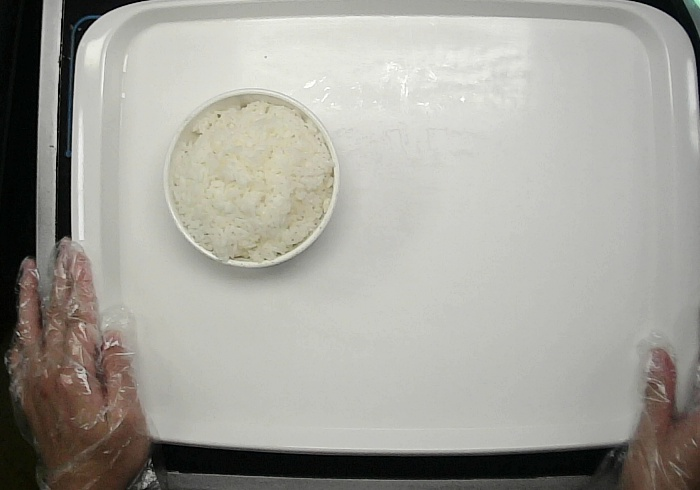HZYJPL-Fan_Wan: (164, 87, 339, 268)
